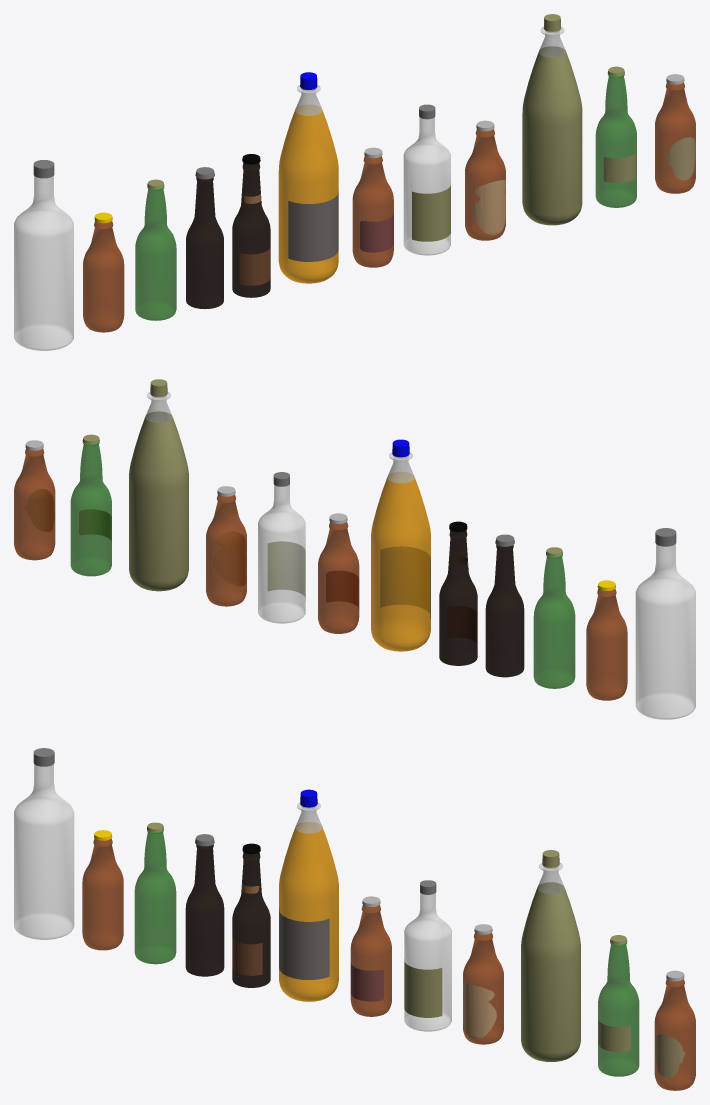
File: 50cl-bottle.obj
3 views of the same model, one above another, from view 1: azimuth 30°, elevation 25°; view 2: azimuth 150°, elevation 25°; view 3: azimuth 330°, elevation 25° (orthographic).
Visible parts, largest first — view 1: Mesh2 Group2 Model, Mesh16 Group15 SoftBottle1 Model, Mesh1 Group1 Model, Mesh12 Group12 koskenkorva1 Model, Mesh5 Group5 GreenBottle1 Model, Mesh17 Group16 TwoDogs1 Model, Mesh8 Group8 GuinnessExport1 Model, Mesh7 Group7 Guinn_bottle1 Model, Mesh10 Group10 Karhu1 Model, Mesh3 Group3 BeerBottle1 Model, Mesh14 Group13 NewcastleBeer1 Model, Mesh18 Group17 Urho1 Model; view 2: Mesh16 Group15 SoftBottle1 Model, Mesh2 Group2 Model, Mesh1 Group1 Model, Mesh12 Group12 koskenkorva1 Model, Mesh5 Group5 GreenBottle1 Model, Mesh17 Group16 TwoDogs1 Model, Mesh7 Group7 Guinn_bottle1 Model, Mesh8 Group8 GuinnessExport1 Model, Mesh3 Group3 BeerBottle1 Model, Mesh18 Group17 Urho1 Model, Mesh10 Group10 Karhu1 Model, Mesh14 Group13 NewcastleBeer1 Model; view 3: Mesh2 Group2 Model, Mesh16 Group15 SoftBottle1 Model, Mesh1 Group1 Model, Mesh12 Group12 koskenkorva1 Model, Mesh5 Group5 GreenBottle1 Model, Mesh17 Group16 TwoDogs1 Model, Mesh8 Group8 GuinnessExport1 Model, Mesh7 Group7 Guinn_bottle1 Model, Mesh3 Group3 BeerBottle1 Model, Mesh10 Group10 Karhu1 Model, Mesh18 Group17 Urho1 Model, Mesh14 Group13 NewcastleBeer1 Model.
Boxes of the visible parts, x1,y1,x2,y2 form: Mesh2 Group2 Model: (278,72,338,283); Mesh16 Group15 SoftBottle1 Model: (522,14,582,225); Mesh1 Group1 Model: (14,176,73,350); Mesh12 Group12 koskenkorva1 Model: (403,117,450,255); Mesh5 Group5 GreenBottle1 Model: (135,179,176,320); Mesh17 Group16 TwoDogs1 Model: (595,66,636,207); Mesh8 Group8 GuinnessExport1 Model: (232,162,270,297); Mesh7 Group7 Guinn_bottle1 Model: (186,177,223,308); Mesh10 Group10 Karhu1 Model: (352,156,393,267); Mesh3 Group3 BeerBottle1 Model: (83,221,124,332); Mesh14 Group13 NewcastleBeer1 Model: (465,129,505,240); Mesh18 Group17 Urho1 Model: (655,82,695,193); Mesh16 Group15 SoftBottle1 Model: (129,379,188,591); Mesh2 Group2 Model: (371,439,430,651); Mesh1 Group1 Model: (635,544,695,719); Mesh12 Group12 koskenkorva1 Model: (258,484,305,623); Mesh5 Group5 GreenBottle1 Model: (533,547,575,688); Mesh17 Group16 TwoDogs1 Model: (70,434,111,576); Mesh7 Group7 Guinn_bottle1 Model: (485,545,524,677); Mesh8 Group8 GuinnessExport1 Model: (439,530,477,665); Mesh3 Group3 BeerBottle1 Model: (586,588,627,700); Mesh18 Group17 Urho1 Model: (14,448,55,560); Mesh10 Group10 Karhu1 Model: (318,522,359,633); Mesh14 Group13 NewcastleBeer1 Model: (206,494,246,606); Mesh2 Group2 Model: (279,789,338,1001); Mesh16 Group15 SoftBottle1 Model: (521,850,580,1061); Mesh1 Group1 Model: (14,764,74,939); Mesh12 Group12 koskenkorva1 Model: (404,892,451,1031); Mesh5 Group5 GreenBottle1 Model: (134,822,176,964); Mesh17 Group16 TwoDogs1 Model: (598,935,639,1076); Mesh8 Group8 GuinnessExport1 Model: (232,852,270,987); Mesh7 Group7 Guinn_bottle1 Model: (185,844,224,976); Mesh3 Group3 BeerBottle1 Model: (82,838,123,950); Mesh10 Group10 Karhu1 Model: (350,905,391,1016); Mesh18 Group17 Urho1 Model: (654,979,695,1090); Mesh14 Group13 NewcastleBeer1 Model: (463,932,503,1044).
Size of the model in its own units: 48.07 by 13.65 by 3.92.
